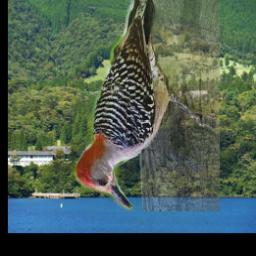Woodpecker: (65, 0, 220, 211)
